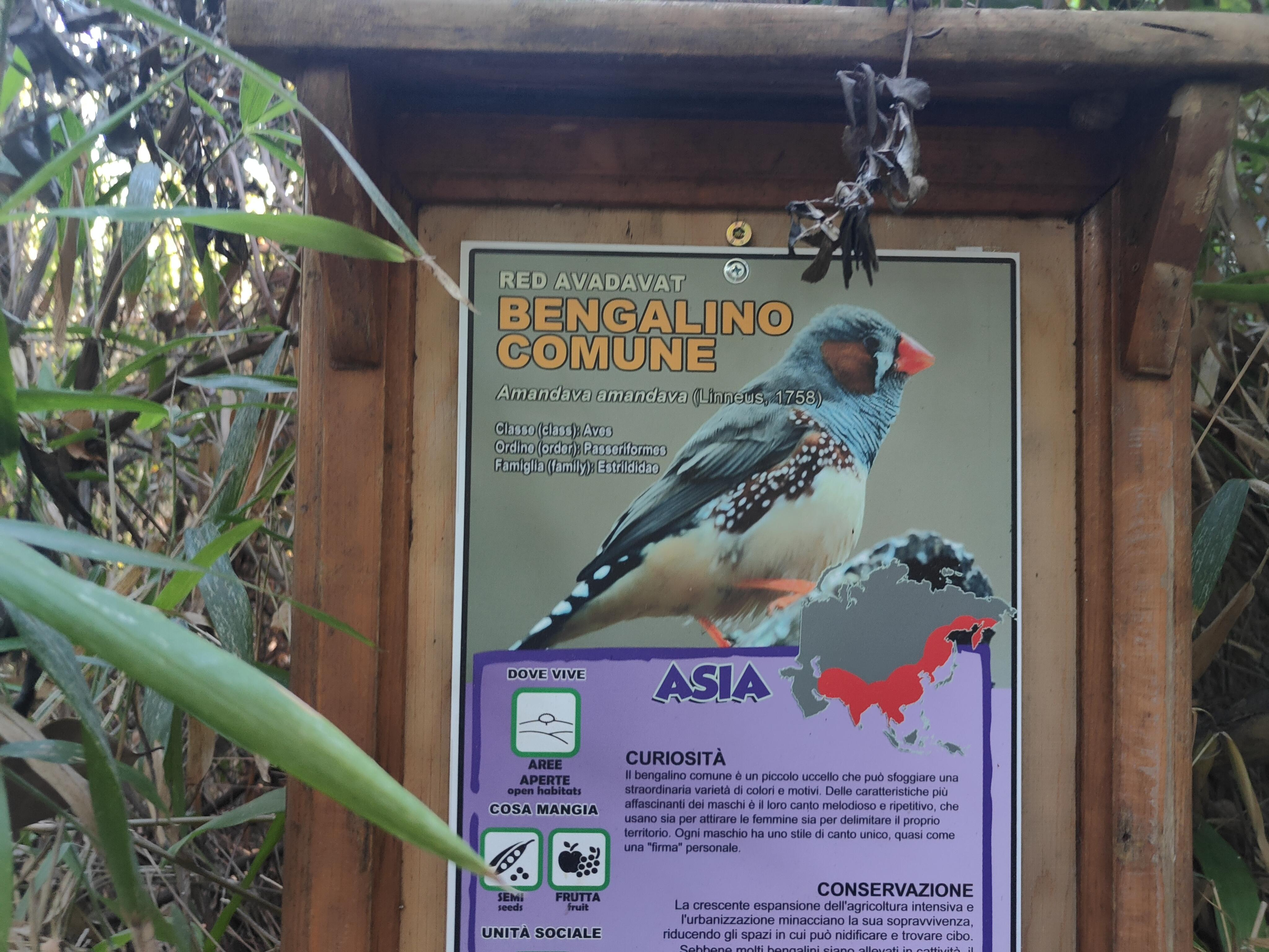apple: (510, 303, 933, 651)
